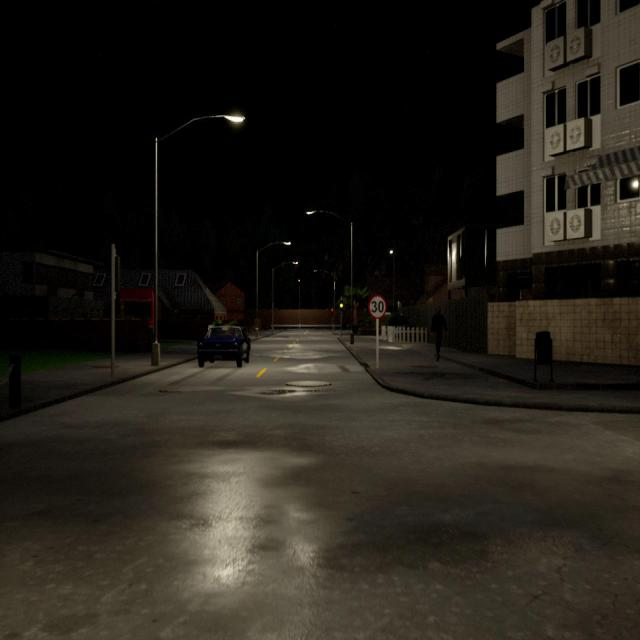Pedestrian: (431, 307, 447, 360)
Traffic_Signs: (369, 296, 386, 317)
Vehicle: (197, 325, 250, 367)
traffic_light: (115, 256, 121, 291), (340, 300, 343, 312), (331, 308, 333, 316)
